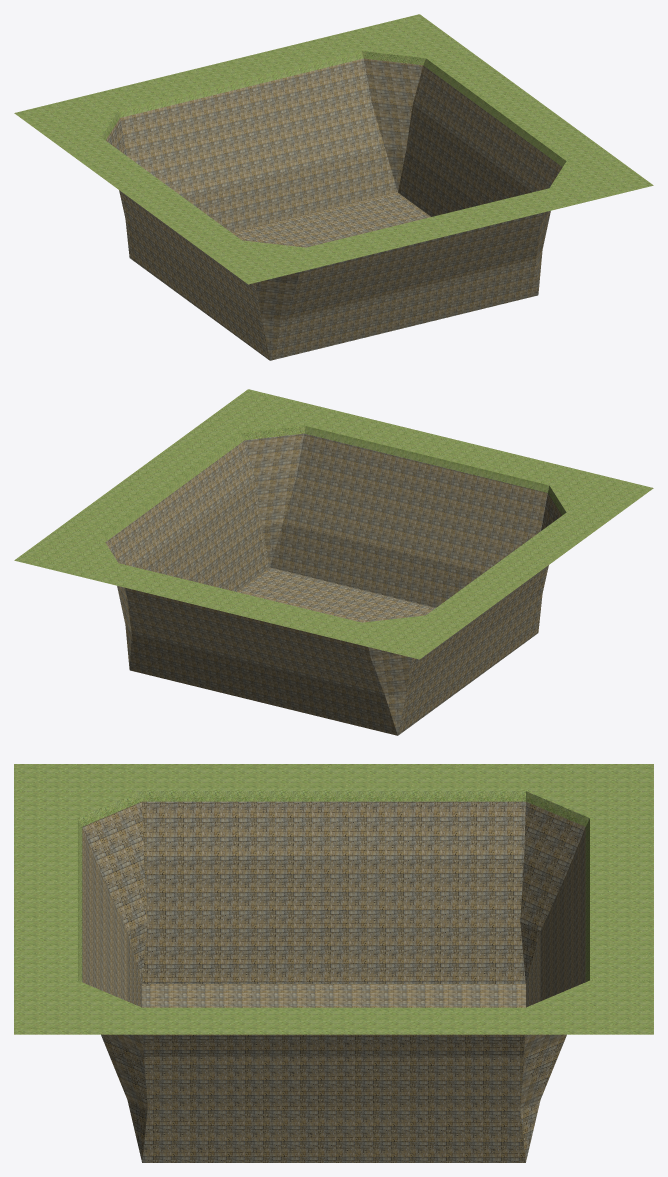
File: map50GN.fbx
The picture shows the model from 3 angles, top to bottom: view 1: azimuth 30°, elevation 25°; view 2: azimuth 150°, elevation 25°; view 3: azimuth 270°, elevation 25°; orthographic projection. The views are drawn at different scales.
Parts seen in each view (by area): view 1: map50GN_down, map50GN_up; view 2: map50GN_down, map50GN_up; view 3: map50GN_down, map50GN_up.
Boxes of the visible parts, left/top/right/bottom form: map50GN_down: left=106, top=58, right=562, bottom=360; map50GN_up: left=14, top=14, right=653, bottom=284; map50GN_down: left=105, top=433, right=561, bottom=735; map50GN_up: left=14, top=389, right=653, bottom=659; map50GN_down: left=82, top=801, right=585, bottom=1162; map50GN_up: left=14, top=764, right=653, bottom=1034.
Bounding box in the file's own units: 1 × 0.3 × 1.
Materials: 2 (2 with a texture image).
